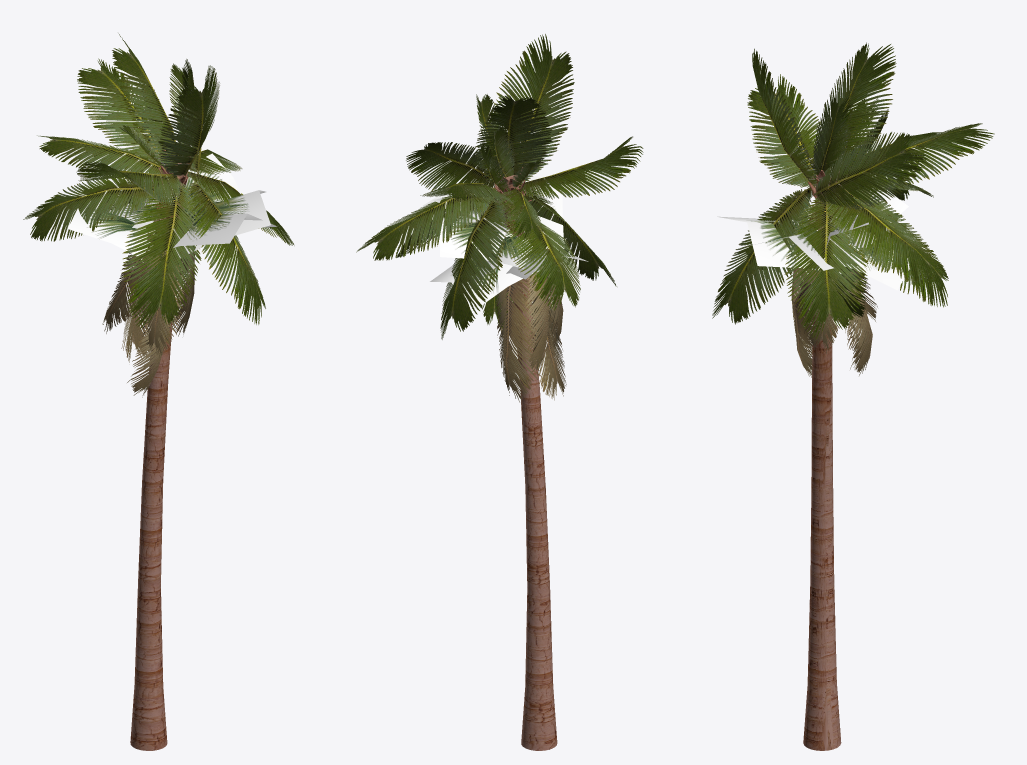
File: plamtree.obj
3 renders of one model, left to right at view 1: azimuth 30°, elevation 25°; view 2: azimuth 150°, elevation 25°; view 3: azimuth 270°, elevation 25°, orthographic. The views are drawn at different scales.
Parts seen in each view (by area): view 1: pCylinder1, pPlane75, pPlane79, pPlane80, pPlane94, pPlane81, pPlane95, pPlane83, pPlane84, pPlane72, pPlane91, pPlane89 (+9 smaller); view 2: pCylinder1, pPlane81, pPlane87, pPlane78, pPlane79, pPlane95, pPlane68, pPlane84, pPlane82, pPlane75, pPlane88, pPlane69 (+10 smaller); view 3: pCylinder1, pPlane74, pPlane82, pPlane78, pPlane94, pPlane95, pPlane84, pPlane80, pPlane81, pPlane87, pPlane85, pPlane91 (+6 smaller).
Part boxes in pixels (x1,y1,x2,y2): pCylinder1: [130, 163, 187, 750]; pPlane75: [122, 178, 201, 328]; pPlane79: [23, 177, 156, 241]; pPlane80: [77, 58, 161, 165]; pPlane94: [187, 179, 265, 324]; pPlane81: [158, 65, 219, 176]; pPlane95: [112, 33, 178, 172]; pPlane83: [37, 135, 167, 181]; pPlane84: [76, 161, 181, 206]; pPlane72: [68, 205, 150, 258]; pPlane91: [148, 213, 277, 250]; pPlane89: [175, 190, 270, 257]; pCylinder1: [497, 175, 557, 750]; pPlane81: [494, 34, 574, 183]; pPlane87: [440, 197, 508, 339]; pPlane78: [356, 187, 495, 260]; pPlane79: [502, 208, 580, 310]; pPlane95: [475, 95, 552, 183]; pPlane68: [496, 276, 541, 402]; pPlane84: [518, 136, 643, 199]; pPlane82: [406, 142, 494, 194]; pPlane75: [520, 190, 616, 286]; pPlane88: [523, 237, 548, 374]; pPlane69: [530, 277, 566, 400]; pCylinder1: [803, 175, 841, 750]; pPlane74: [784, 194, 868, 339]; pPlane82: [813, 132, 927, 210]; pPlane78: [825, 193, 946, 289]; pPlane94: [712, 189, 811, 324]; pPlane95: [813, 42, 896, 180]; pPlane84: [747, 74, 823, 187]; pPlane80: [859, 123, 994, 193]; pPlane81: [752, 48, 817, 187]; pPlane87: [844, 189, 948, 307]; pPlane85: [812, 94, 852, 178]; pPlane91: [717, 216, 841, 273].
Size of the model in its own units: 5.04 by 12.4 by 4.88.
4 materials, 4 textured.
